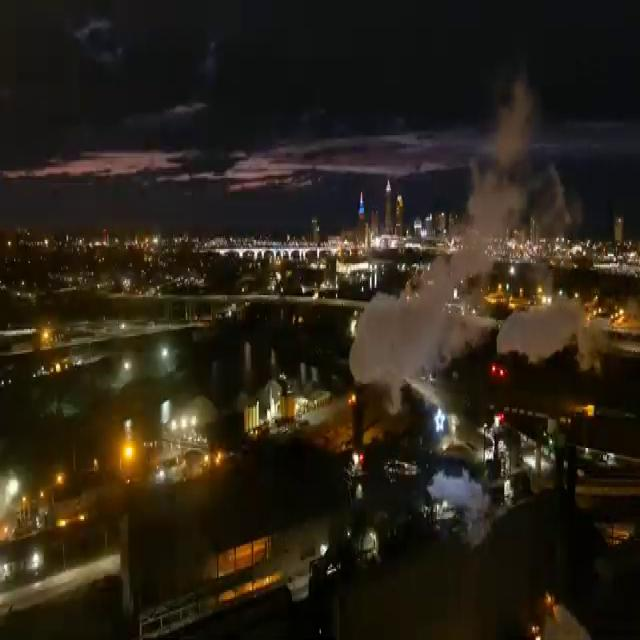smoke: (462, 108, 583, 263), (349, 256, 467, 405), (499, 293, 607, 384)
